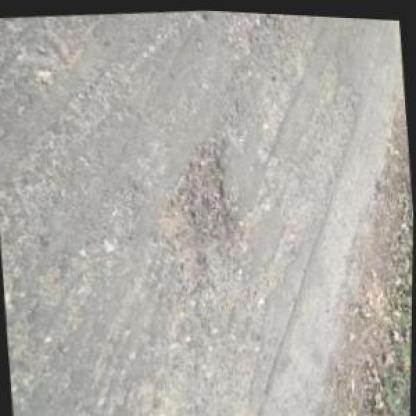pothole: (148, 133, 240, 294)
